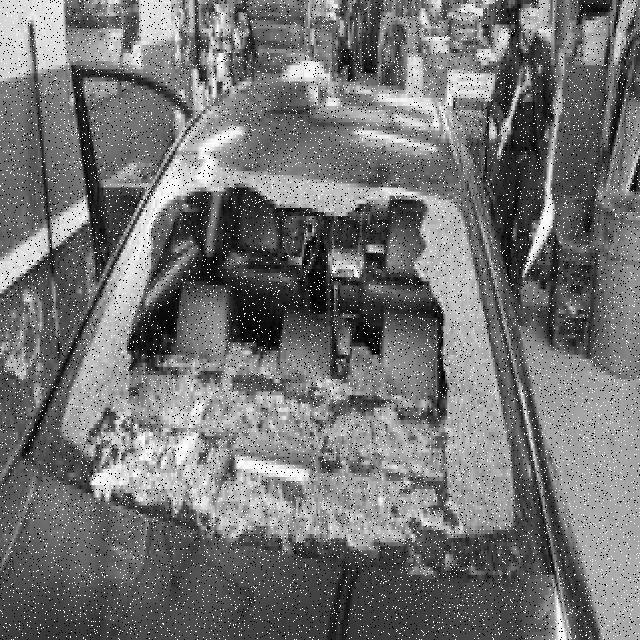Rear-windscreen-Damage: (68, 175, 525, 591)
